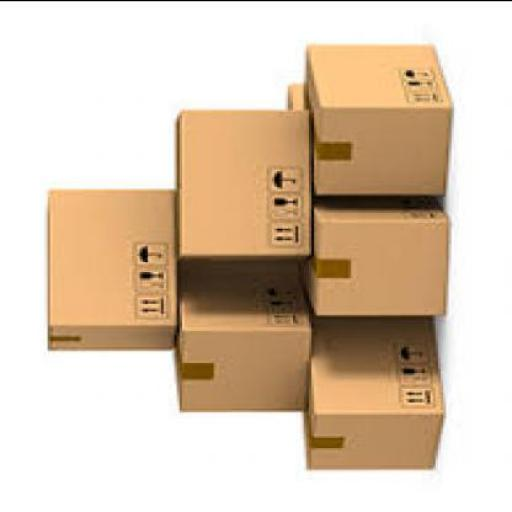cardboard: (168, 258, 314, 414), (301, 316, 444, 473), (172, 110, 314, 265), (304, 46, 448, 198), (48, 190, 176, 352), (296, 198, 446, 316), (284, 85, 309, 111)
